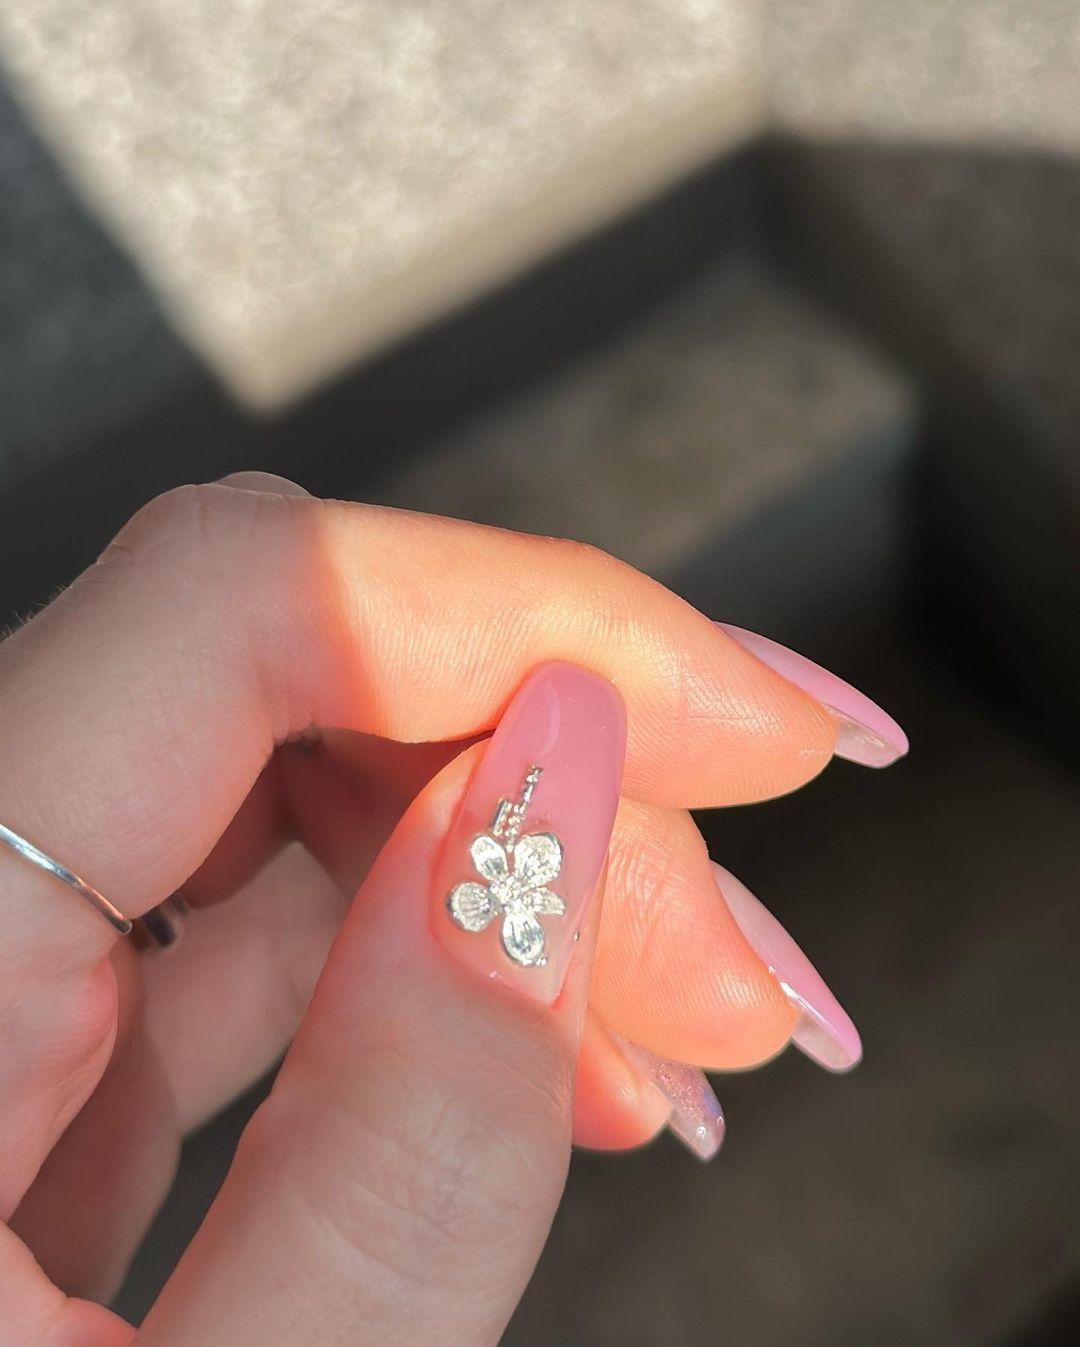nail: (426, 657, 629, 1010), (706, 856, 863, 1074), (709, 618, 910, 771), (600, 1016, 726, 1161), (570, 1005, 673, 1154)
